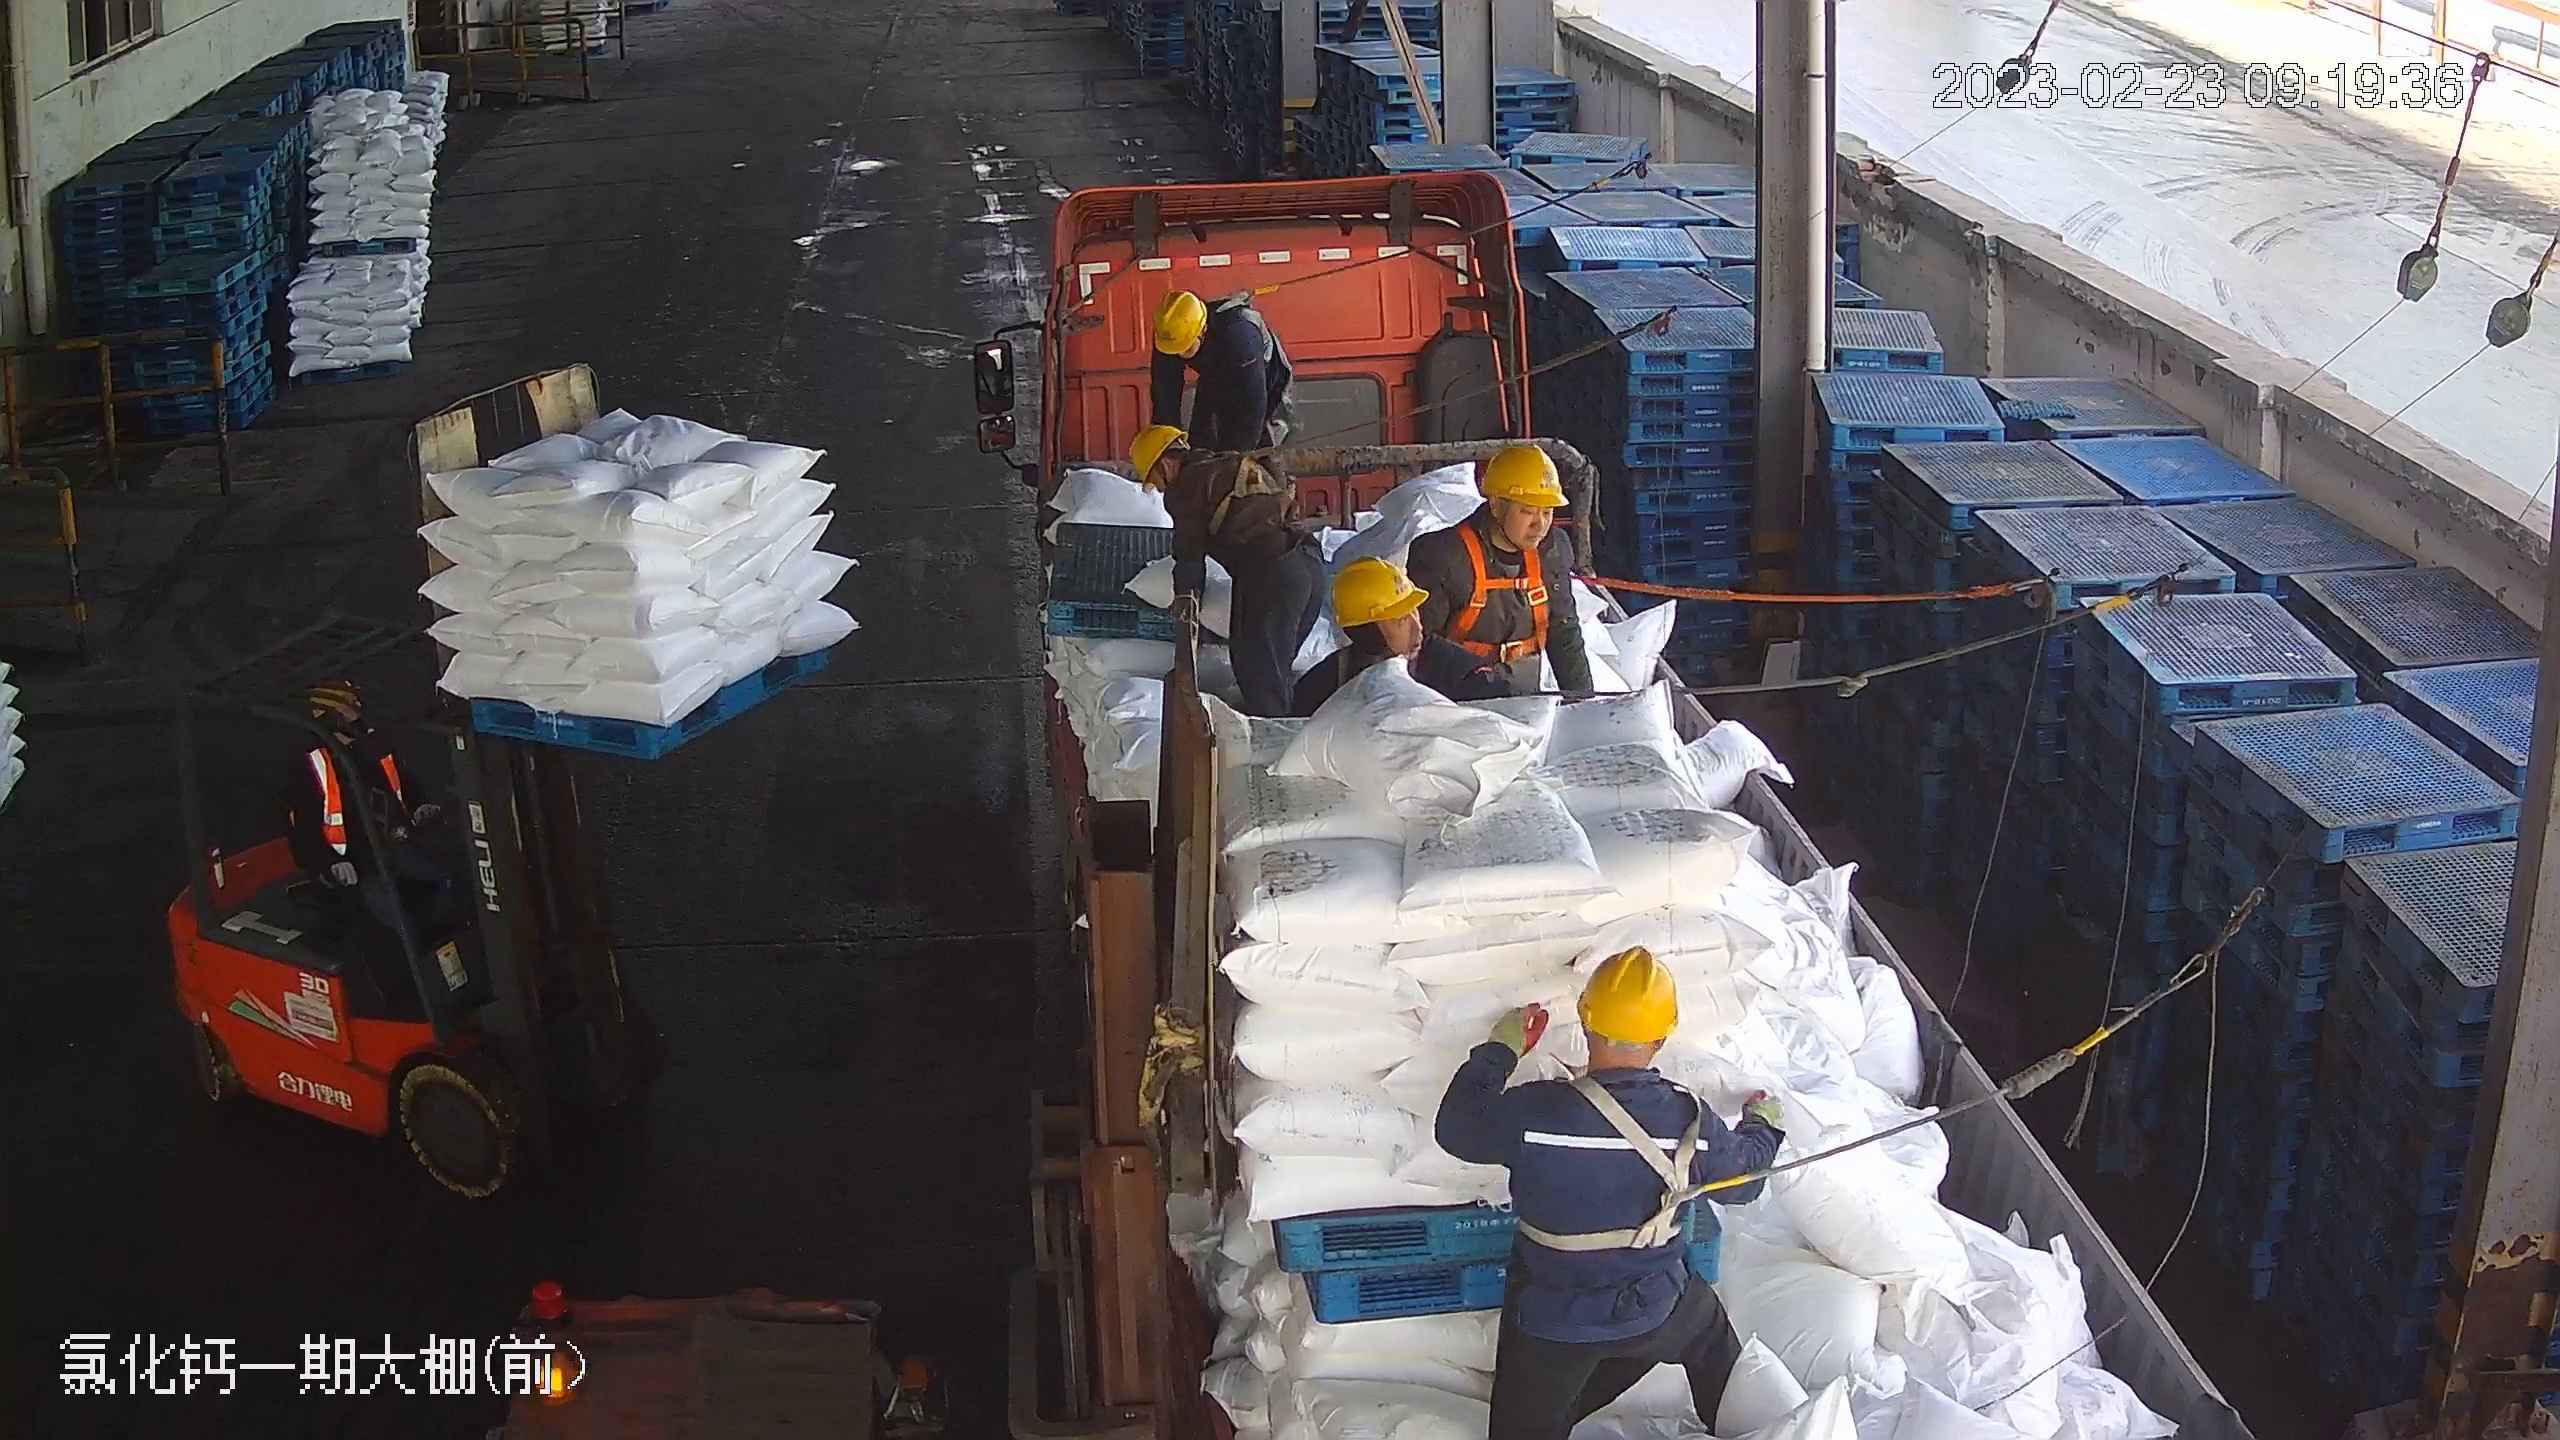belt: (1516, 1067, 1717, 1252), (1431, 522, 1555, 659), (1193, 444, 1295, 531), (1207, 285, 1276, 337), (1328, 640, 1369, 678)
head: (1498, 946, 1706, 1171), (1412, 439, 1578, 612), (1315, 554, 1489, 705), (1136, 428, 1265, 527), (1151, 289, 1265, 371)
helmet: (1572, 943, 1682, 1042), (1329, 557, 1427, 628), (1475, 440, 1565, 507), (1130, 424, 1185, 489), (1152, 290, 1204, 354)
people: (1456, 948, 1782, 1440), (1130, 425, 1329, 717), (297, 690, 446, 949), (1149, 286, 1294, 445)
truck: (991, 171, 2253, 1436)
